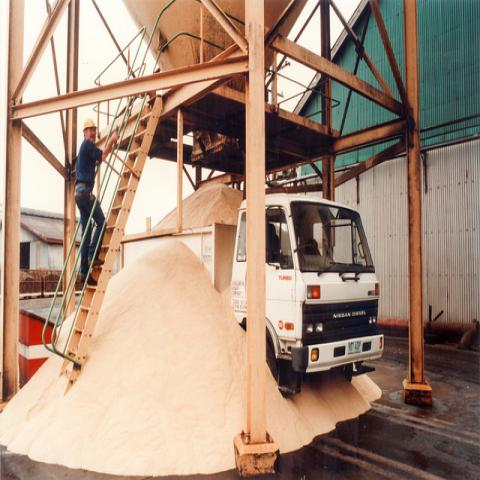truck: (112, 181, 386, 397)
